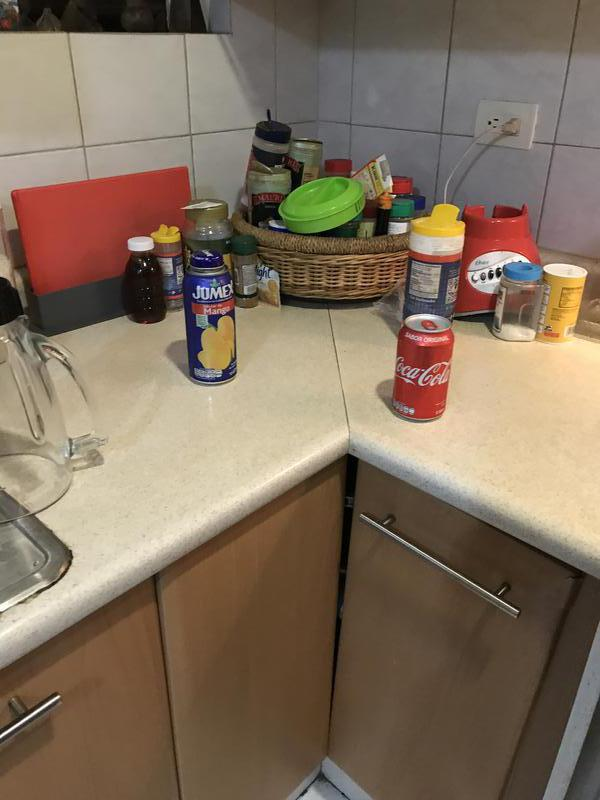coca_cola: (391, 314, 454, 425)
jugo_jumex: (181, 250, 241, 385)
